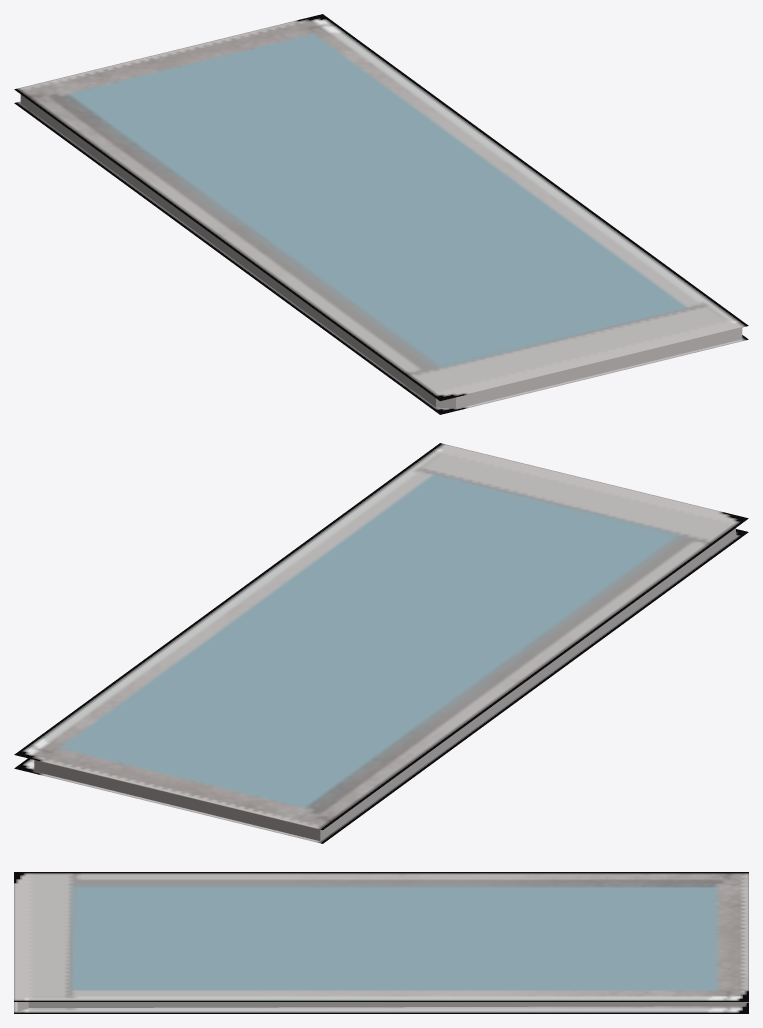
File: pz_native_fixtures_doors_01_115_frame.obj
3 renders of one model, top to bottom at view 1: azimuth 30°, elevation 25°; view 2: azimuth 150°, elevation 25°; view 3: azimuth 270°, elevation 25°, orthographic. The views are drawn at different scales.
Parts seen in each view (by area): view 1: pz_native_fixtures_doors_01_115_frame; view 2: pz_native_fixtures_doors_01_115_frame; view 3: pz_native_fixtures_doors_01_115_frame.
Part boxes in pixels (box(x1,y1,x2,y2)): pz_native_fixtures_doors_01_115_frame: box(14, 14, 748, 414); pz_native_fixtures_doors_01_115_frame: box(14, 443, 748, 843); pz_native_fixtures_doors_01_115_frame: box(14, 872, 748, 1013).
Size of the model in its own units: 1.06 by 0.045 by 2.54.
1 material, 1 textured.
